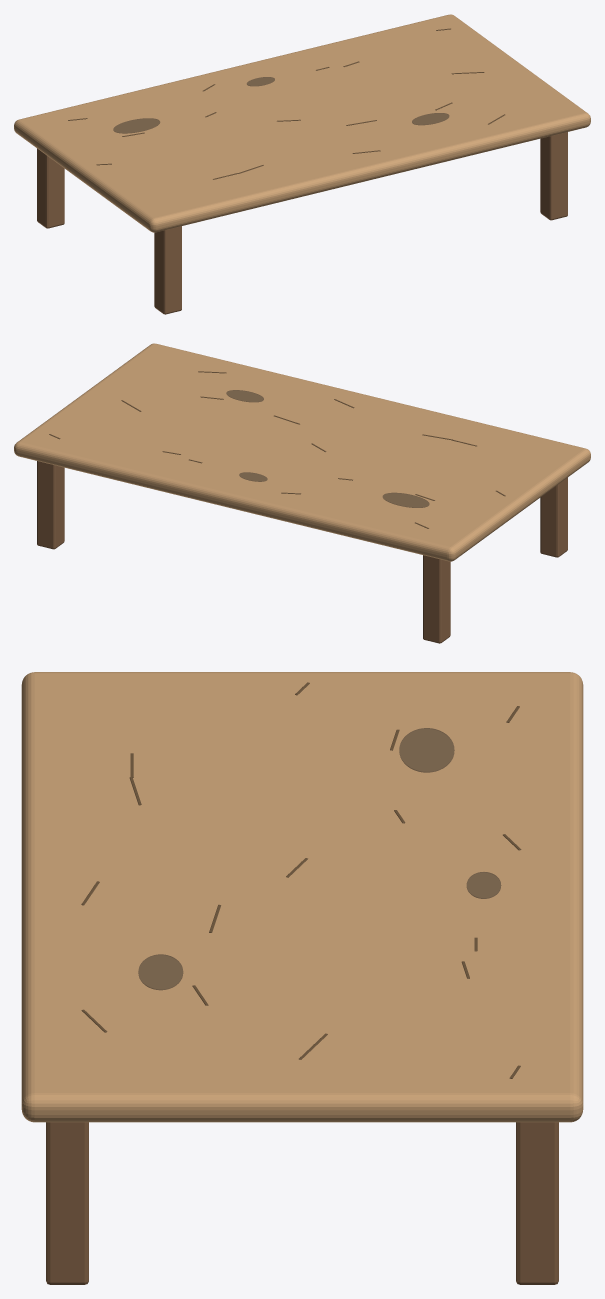
The model's file is workbench.glb.
The picture shows the model from 3 angles, top to bottom: view 1: azimuth 30°, elevation 25°; view 2: azimuth 150°, elevation 25°; view 3: azimuth 270°, elevation 25°; orthographic projection. The views are drawn at different scales.
Visible parts, largest first — view 1: Workbench_Top, Workbench_Leg_FR, Workbench_Leg_FL, Workbench_Leg_BL, Workbench_Soft_Stain_1; view 2: Workbench_Top, Workbench_Leg_BR, Workbench_Leg_BL, Workbench_Leg_FL, Workbench_Soft_Stain_1; view 3: Workbench_Top, Workbench_Leg_BR, Workbench_Leg_FR, Workbench_Soft_Stain_1, Workbench_Soft_Stain_2.
Part boxes in pixels (box(x1,y1,x2,y2)): Workbench_Top: box(14, 14, 590, 232); Workbench_Leg_FR: box(540, 132, 567, 220); Workbench_Leg_FL: box(154, 226, 181, 314); Workbench_Leg_BL: box(37, 148, 64, 228); Workbench_Soft_Stain_1: box(113, 118, 160, 133); Workbench_Top: box(14, 343, 590, 561); Workbench_Leg_BR: box(37, 461, 64, 549); Workbench_Leg_BL: box(423, 555, 450, 643); Workbench_Leg_FL: box(540, 477, 567, 557); Workbench_Soft_Stain_1: box(382, 492, 429, 507); Workbench_Top: box(21, 672, 583, 1122); Workbench_Leg_BR: box(516, 1122, 558, 1284); Workbench_Leg_FR: box(46, 1122, 88, 1284); Workbench_Soft_Stain_1: box(399, 728, 454, 772); Workbench_Soft_Stain_2: box(138, 954, 183, 990).
Size of the model in its own units: 5.9 by 1.33 by 3.25.
